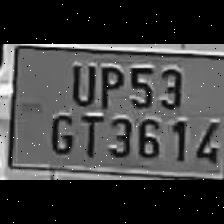1: (164, 114, 190, 162)
3: (104, 111, 132, 159), (156, 63, 184, 109)
4: (189, 114, 221, 164)
5: (123, 62, 153, 110)
6: (133, 113, 161, 161)
G: (45, 108, 77, 156)
P: (95, 62, 123, 110)
T: (78, 111, 103, 159)
U: (66, 60, 98, 106)
